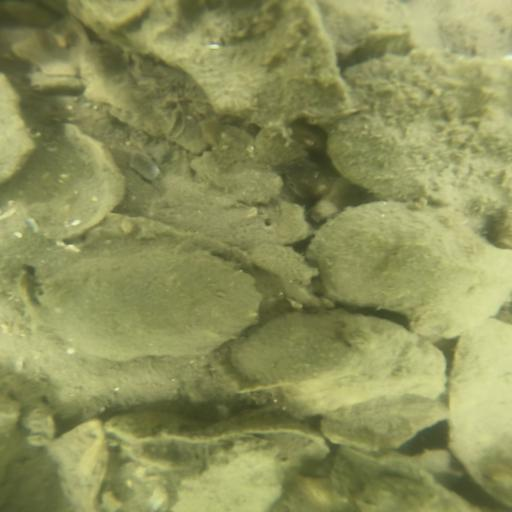Oyster-Closed: (58, 1, 358, 130), (325, 45, 512, 242), (306, 197, 512, 341), (37, 246, 260, 366), (270, 316, 456, 418), (445, 318, 512, 510), (15, 122, 117, 246), (1, 414, 120, 512), (233, 311, 367, 393), (161, 441, 290, 512), (1, 73, 42, 193)
Oyster-Open: (97, 410, 327, 473)
